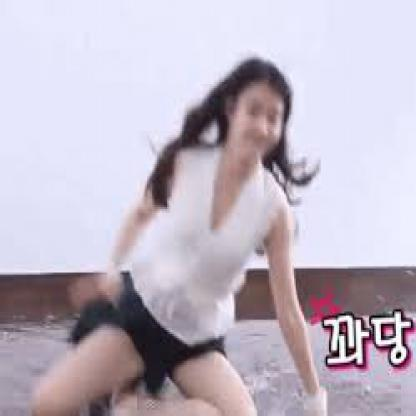Fall_Down: (31, 54, 329, 414)
